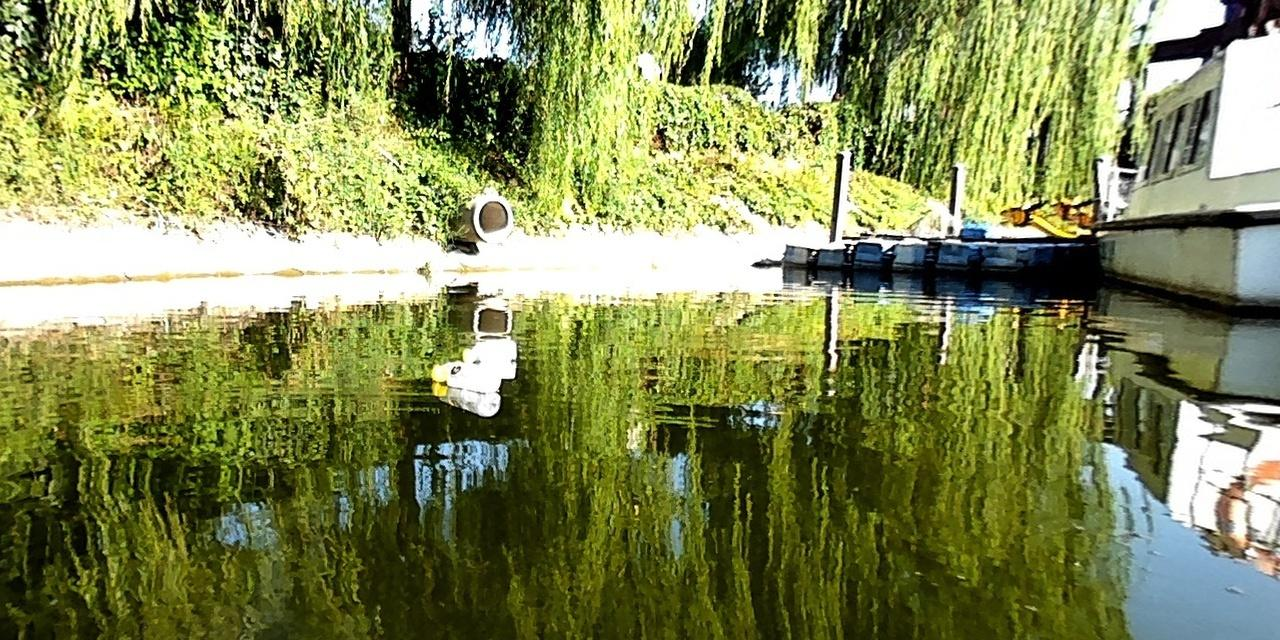bottle: (428, 360, 493, 394), (464, 337, 516, 359)
